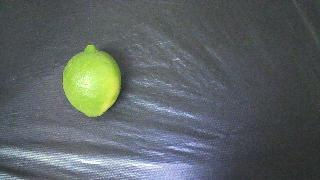LOCAL: (63, 45, 121, 117)
